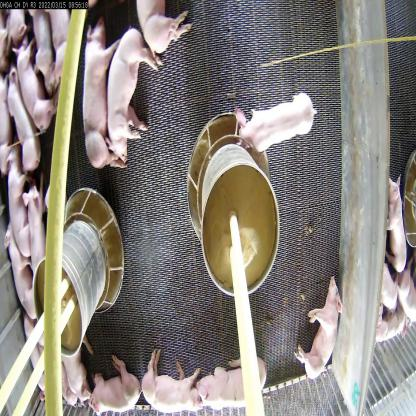Pig: (103, 30, 160, 168), (236, 88, 314, 160), (78, 19, 112, 182), (138, 343, 205, 415), (196, 354, 274, 415), (297, 272, 340, 382), (128, 0, 197, 64), (4, 69, 41, 174), (12, 42, 52, 136), (84, 351, 141, 415), (3, 226, 40, 320), (7, 150, 32, 258), (20, 183, 46, 271)
